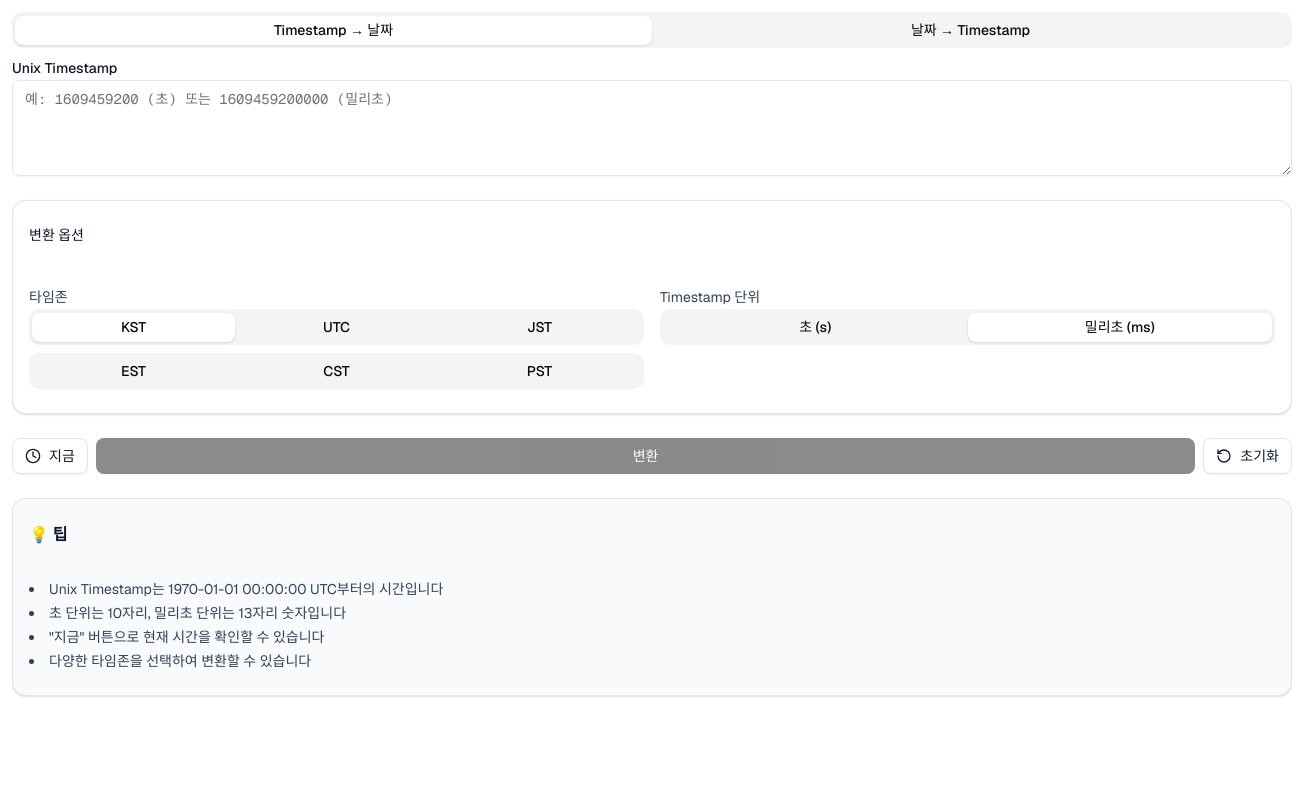
TimestampConverter Component › Timestamp → 날짜 변환 테스트 › Timestamp 변환 실패 시 에러 메시지 표시
Type "invalid" into the text box with placeholder "예: 1609459200 (초) 또는 1609459200000 (밀리초)" at (652, 128), box x1=12 y1=80 x2=1292 y2=176
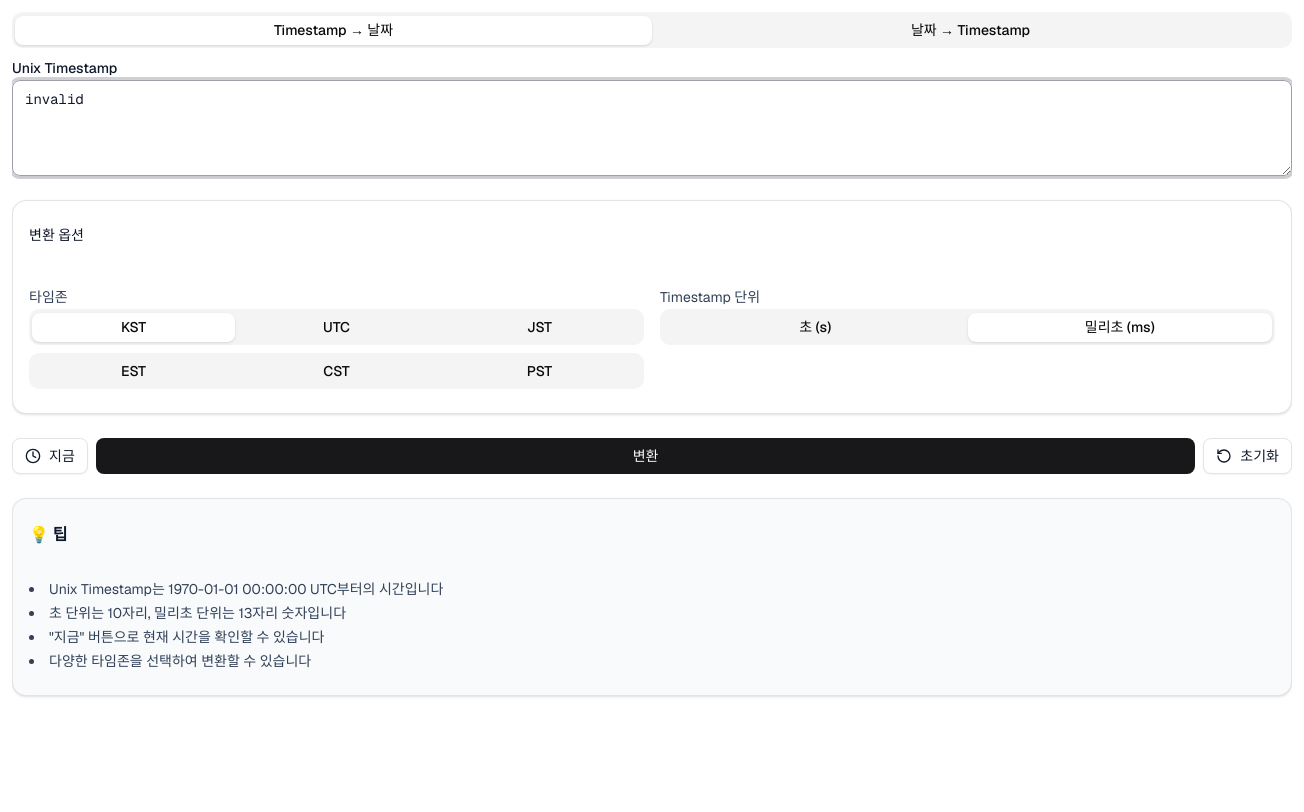
Click the button "변환" at (646, 456), box x1=96 y1=438 x2=1195 y2=474
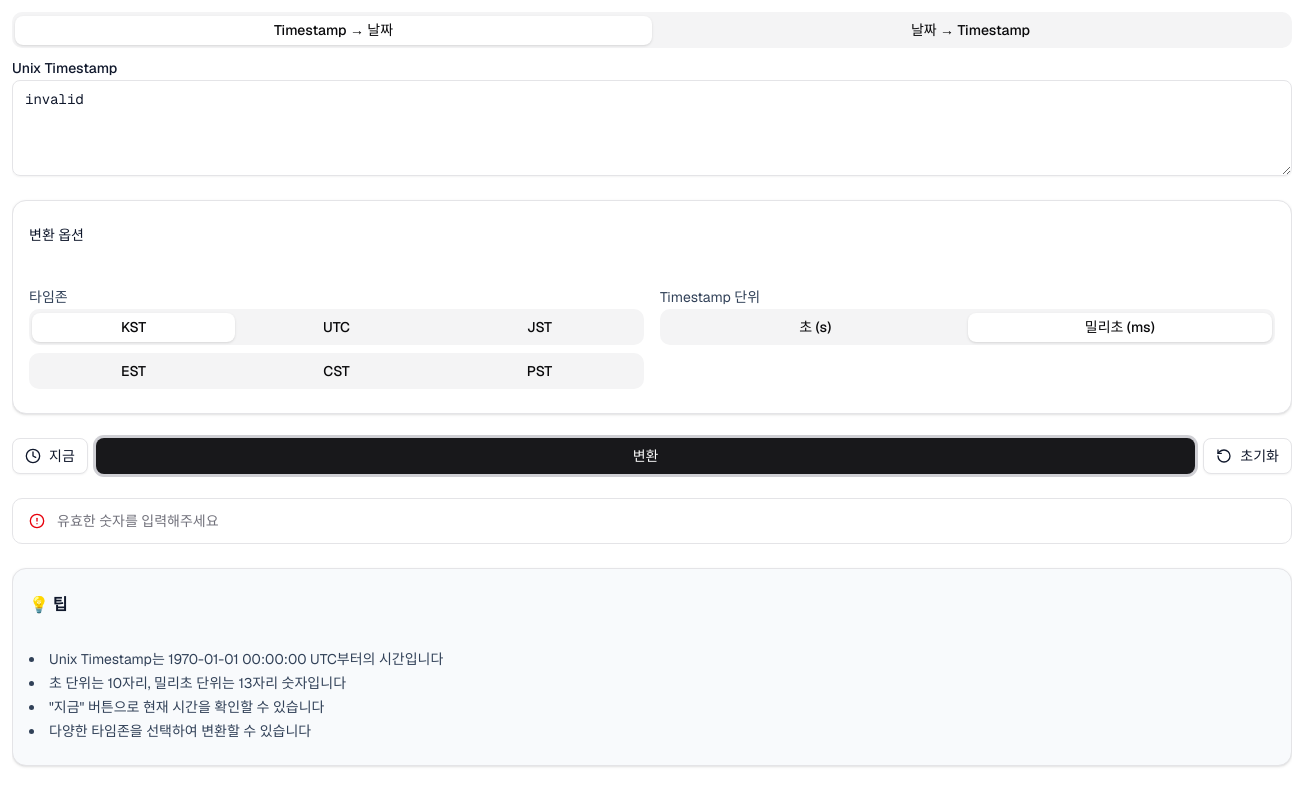
Expected: the text "유효한 숫자를 입력해주세요" is shown, x1=57 y1=512 x2=219 y2=530
